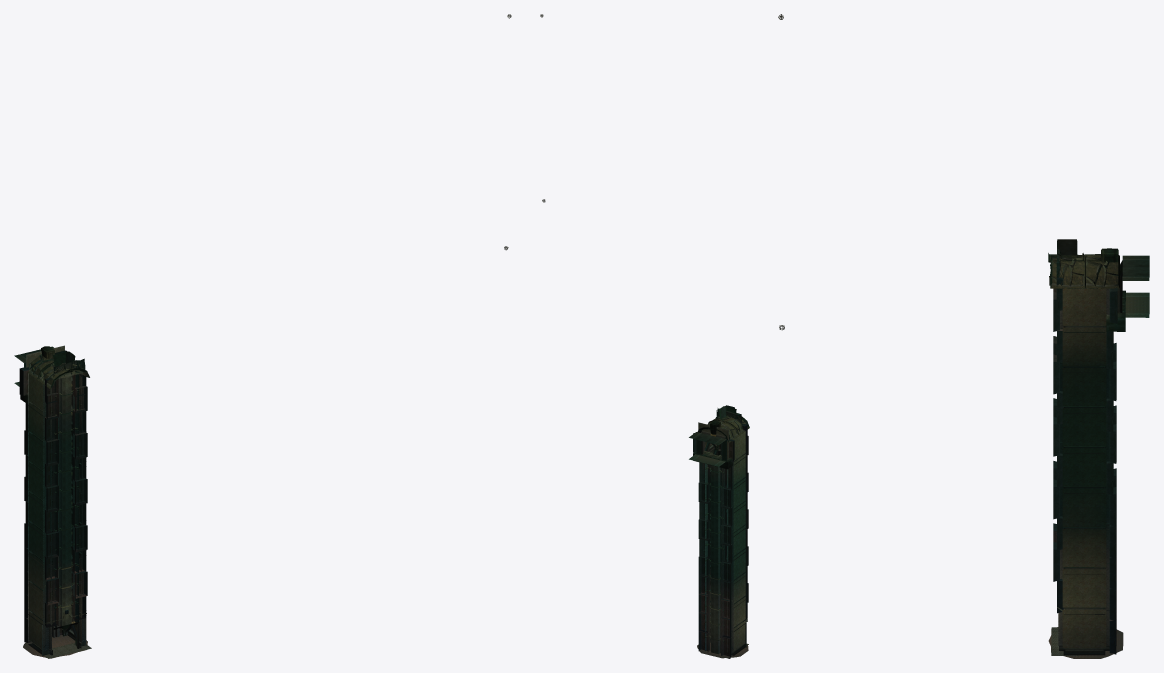
Rendered from sewb-elev.glb.
3 renders of one model, left to right at view 1: azimuth 30°, elevation 25°; view 2: azimuth 150°, elevation 25°; view 3: azimuth 270°, elevation 25°, orthographic. The views are drawn at different scales.
Parts seen in each view (by area): view 1: Mesh_2; view 2: Mesh_2; view 3: Mesh_2.
Part boxes in pixels (left/top/right/bottom): Mesh_2: left=14, top=14, right=511, bottom=658; Mesh_2: left=540, top=14, right=749, bottom=658; Mesh_2: left=778, top=14, right=1149, bottom=658.
Bounding box in the file's own units: 171 × 279 × 110.
Materials: 35 (35 with a texture image).
